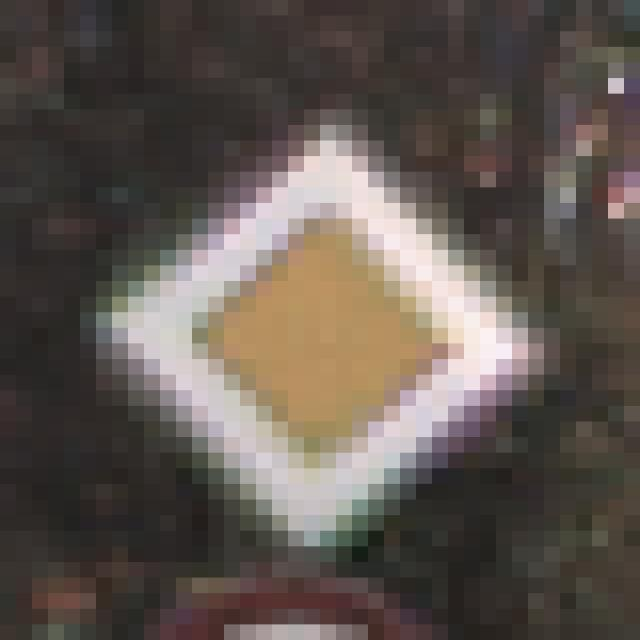Main Road: (81, 79, 561, 563)
